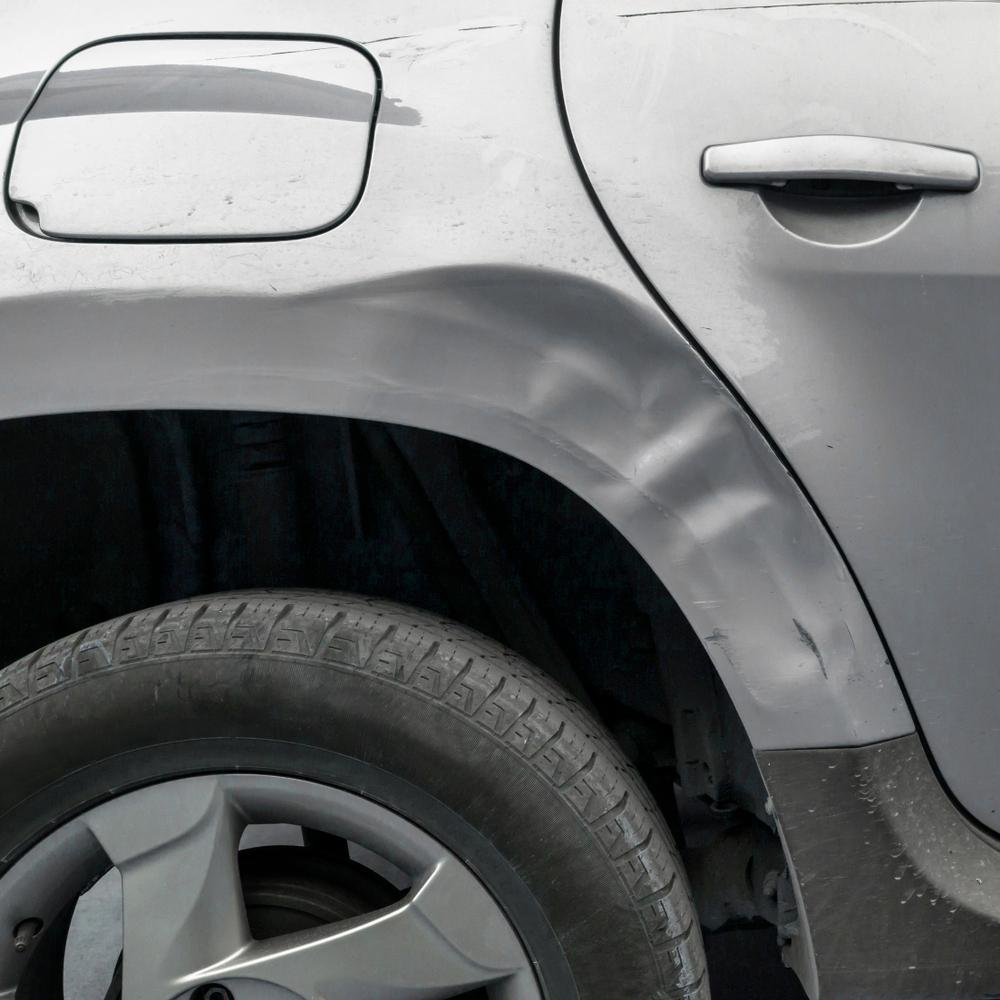dent: (287, 269, 845, 713)
